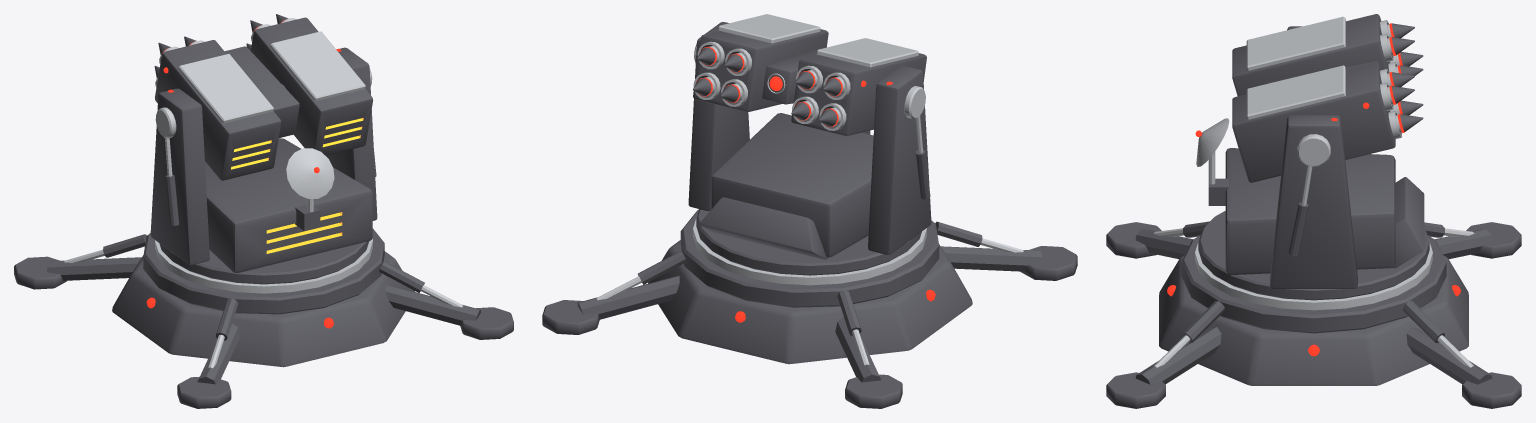
Rendered from missile_turret.glb.
3 views of the same model, side by side, from view 1: azimuth 30°, elevation 25°; view 2: azimuth 150°, elevation 25°; view 3: azimuth 270°, elevation 25° (orthographic). The views are drawn at different scales.
Visible parts, largest first — view 1: TurretBase, TurretYaw, TurretPitch; view 2: TurretBase, TurretYaw, TurretPitch; view 3: TurretBase, TurretYaw, TurretPitch.
Part boxes in pixels (box(x1,y1,x2,y2)): TurretBase: box(14, 228, 513, 408); TurretYaw: box(150, 47, 377, 284); TurretPitch: box(155, 17, 373, 180); TurretBase: box(542, 209, 1077, 408); TurretYaw: box(688, 22, 931, 275); TurretPitch: box(693, 14, 926, 136); TurretBase: box(1106, 221, 1521, 408); TurretYaw: box(1195, 26, 1429, 300); TurretPitch: box(1232, 14, 1402, 182).
Bounding box in the file's own units: 2.45 × 1.76 × 2.45.
